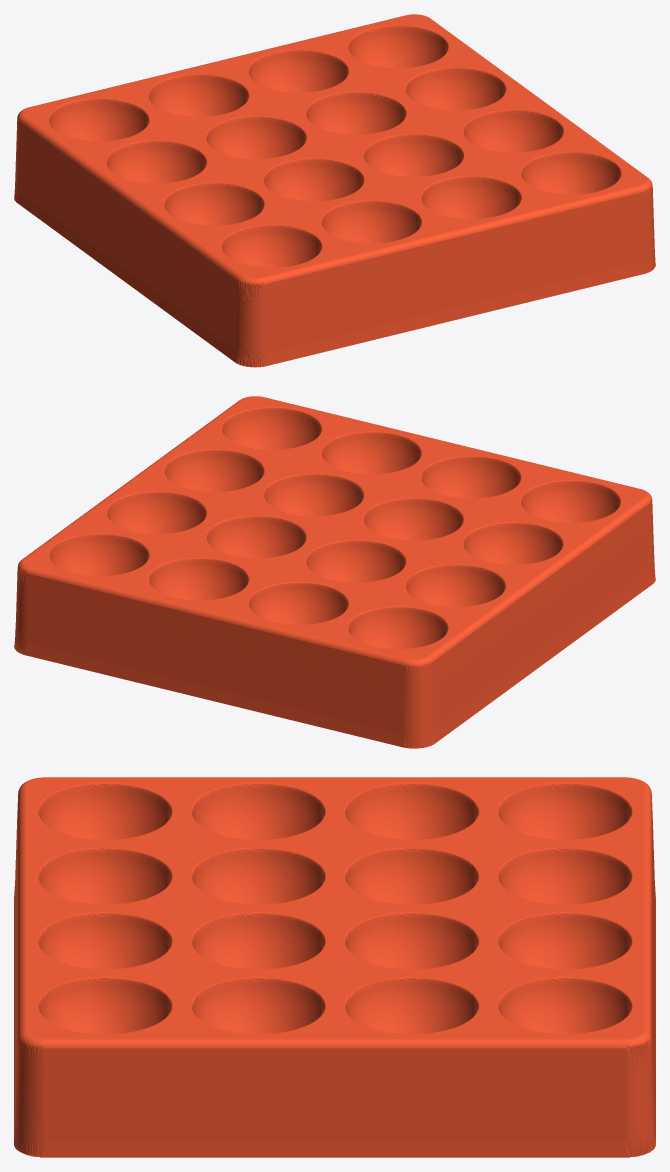
File: mold.glb
3 views of the same model, one above another, from view 1: azimuth 30°, elevation 25°; view 2: azimuth 150°, elevation 25°; view 3: azimuth 270°, elevation 25° (orthographic). The views are drawn at different scales.
Parts seen in each view (by area): view 1: geometry_0; view 2: geometry_0; view 3: geometry_0.
Part boxes in pixels (bbox=[...]): geometry_0: bbox=[14, 14, 655, 367]; geometry_0: bbox=[14, 396, 655, 748]; geometry_0: bbox=[14, 777, 655, 1157].
Size of the model in its own units: 0.1856 by 0.0362 by 0.1856.
